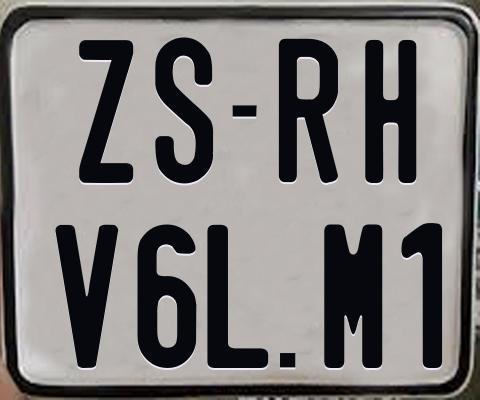1: (400, 220, 442, 369)
6: (135, 221, 197, 370)
H: (362, 39, 418, 184)
L: (206, 224, 273, 372)
M: (321, 224, 379, 371)
R: (277, 38, 342, 188)
S: (153, 36, 211, 185)
V: (52, 224, 117, 368)
Z: (79, 40, 136, 184)
